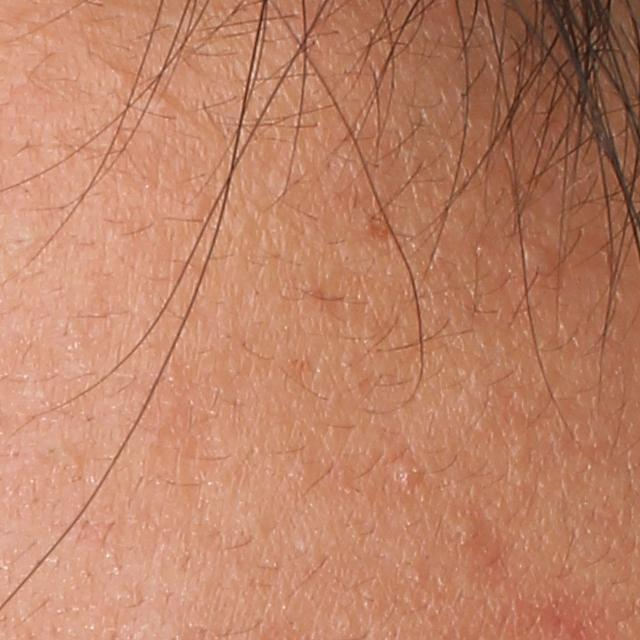comedo: (514, 238, 552, 277), (448, 514, 478, 553), (389, 458, 419, 486), (110, 67, 132, 89)
